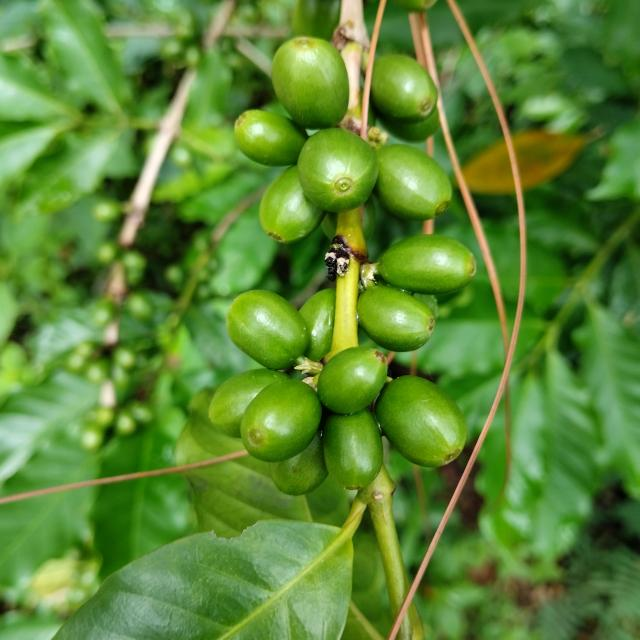green: (375, 376, 467, 468), (271, 36, 349, 128), (297, 127, 378, 212), (240, 379, 322, 462), (226, 290, 309, 370), (378, 234, 477, 294), (374, 144, 452, 220), (208, 369, 290, 438), (259, 165, 326, 243), (358, 285, 435, 352), (322, 409, 383, 491), (317, 346, 388, 414), (371, 54, 438, 122), (234, 109, 308, 166), (269, 431, 329, 496), (299, 289, 336, 361), (380, 106, 440, 141), (414, 293, 439, 319)
